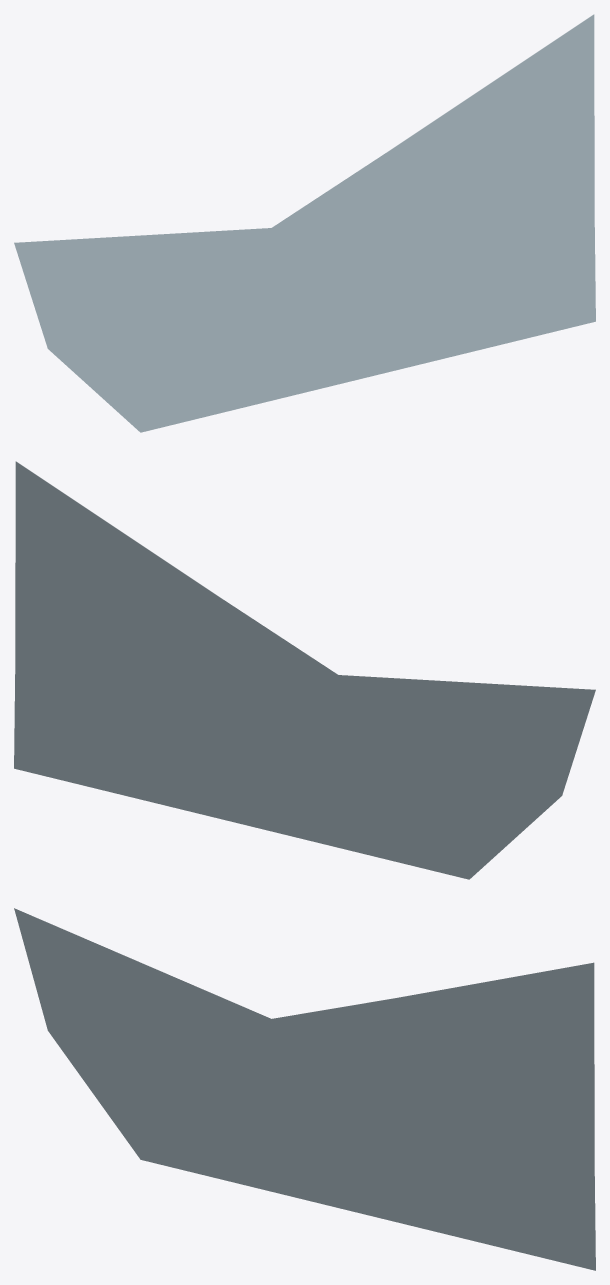
3 views of the same model, one above another, from view 1: azimuth 30°, elevation 25°; view 2: azimuth 150°, elevation 25°; view 3: azimuth 330°, elevation 25° (orthographic).
Parts seen in each view (by area): view 1: pCube19; view 2: pCube19; view 3: pCube19.
Boxes of the visible parts, x1,y1,x2,y2 form: pCube19: [14, 14, 595, 432]; pCube19: [14, 461, 595, 879]; pCube19: [14, 908, 595, 1270].
Size of the model in its own units: 72.98 by 36.89 by 0.
